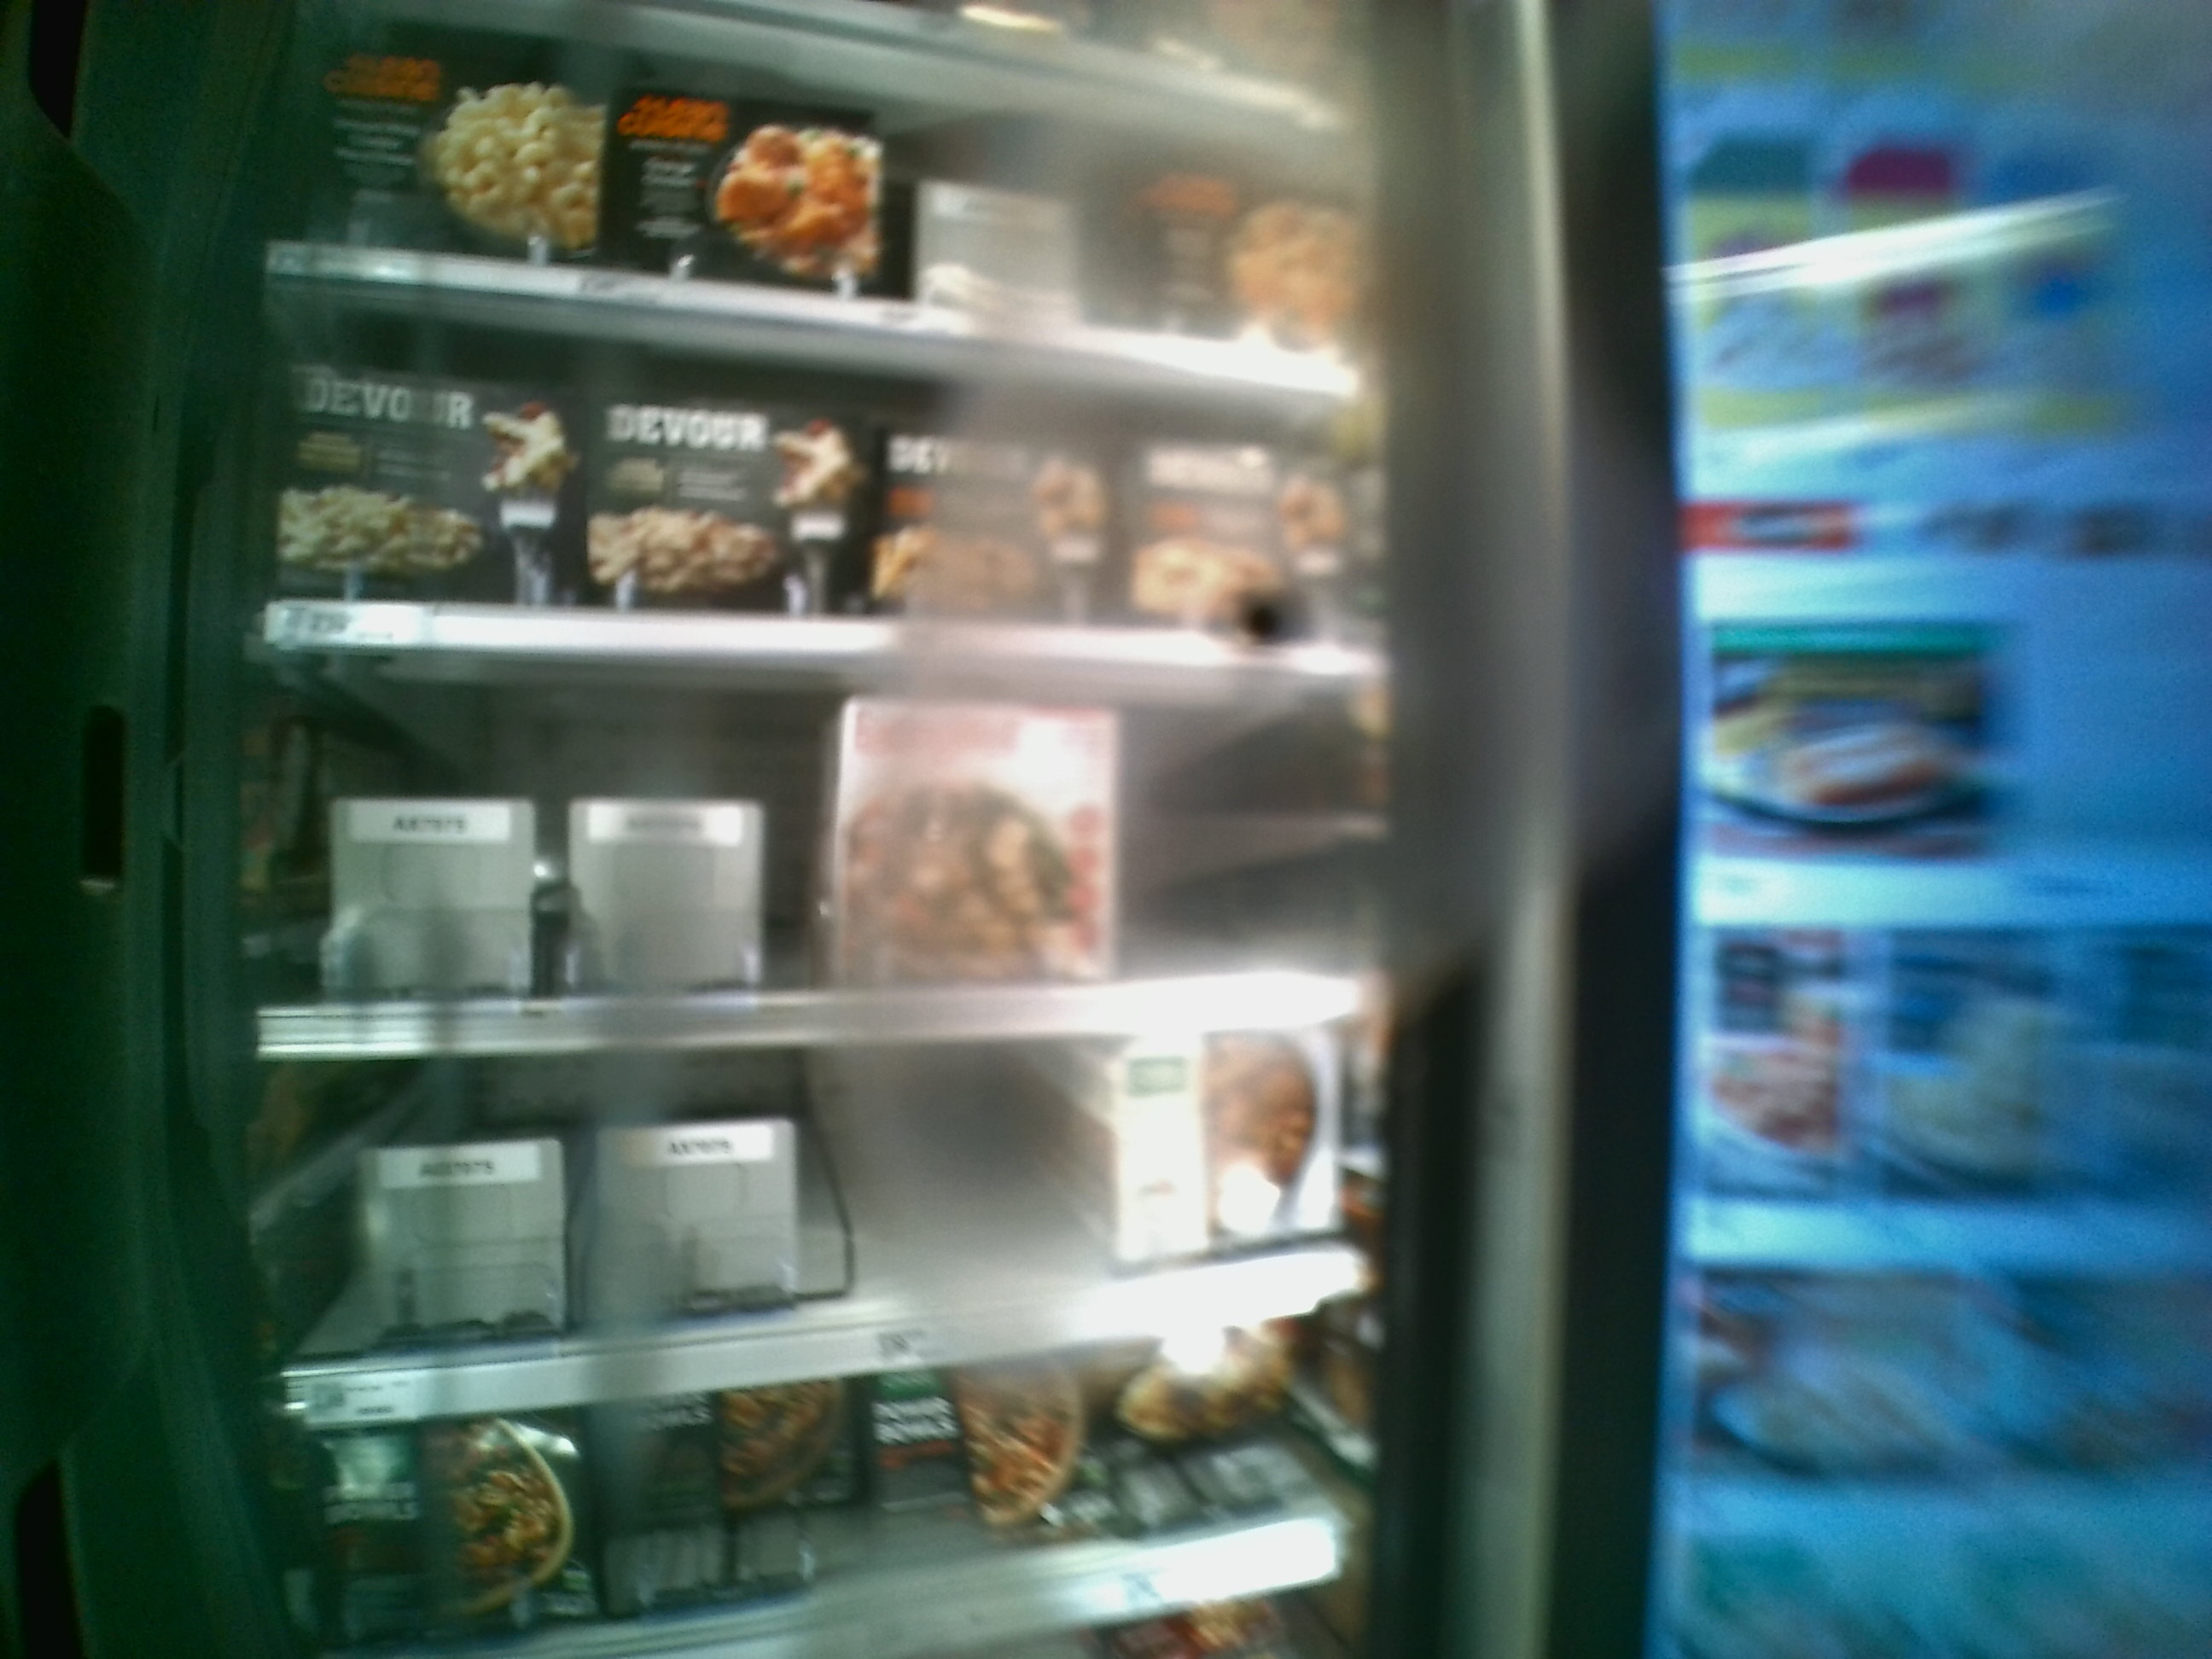shelf: (254, 641, 1399, 1035)
